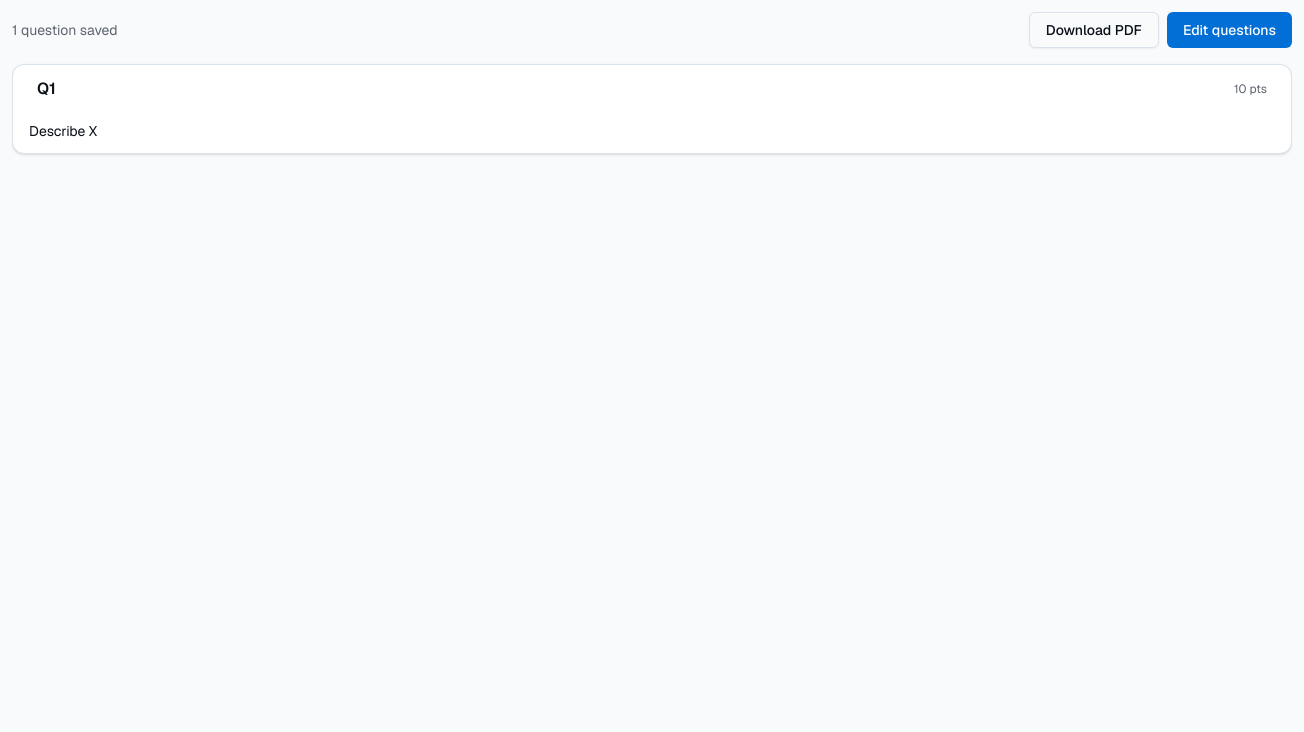
Test: canEdit=true with saved questions (view mode) › Cancel button returns to view mode
The width and height of the screenshot is (1304, 732).
Click the button "Edit questions": point(1229, 30) [1167,12,1292,48]
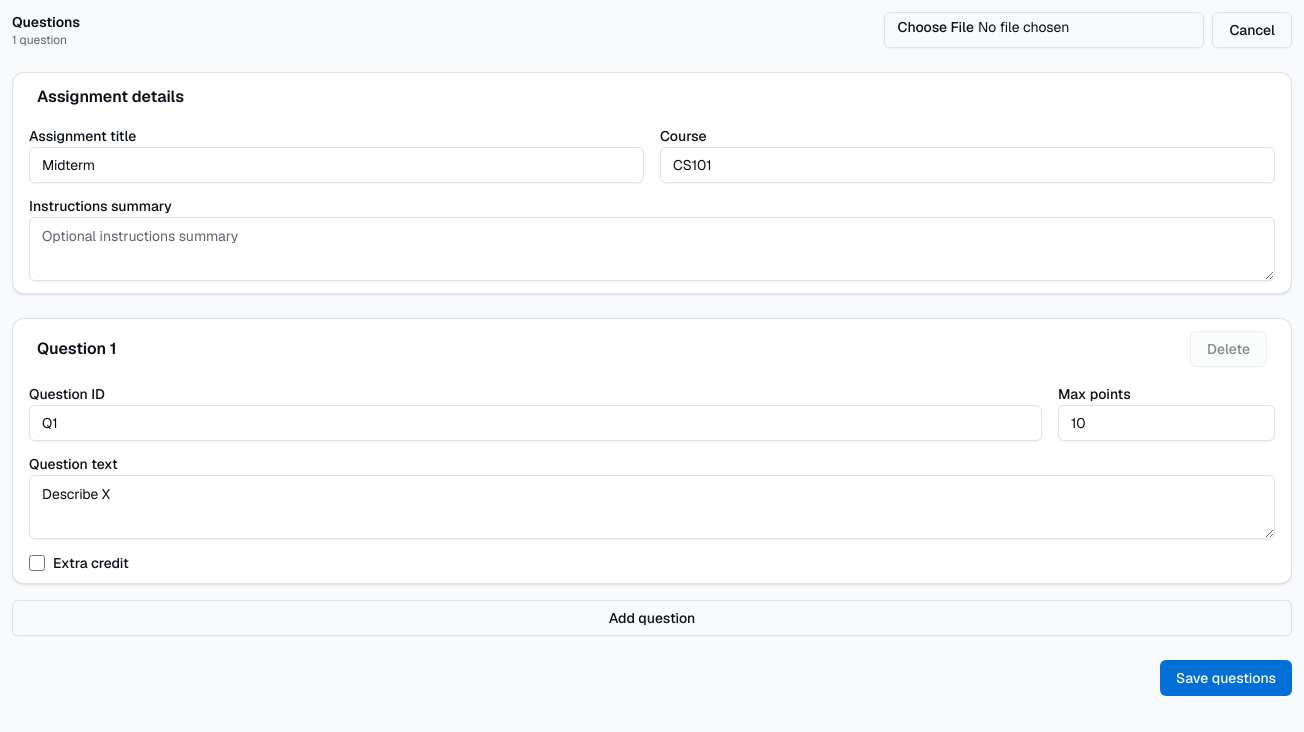
expect the form is shown: met
Click the button "Cancel": point(1252, 30) [1212,12,1292,48]
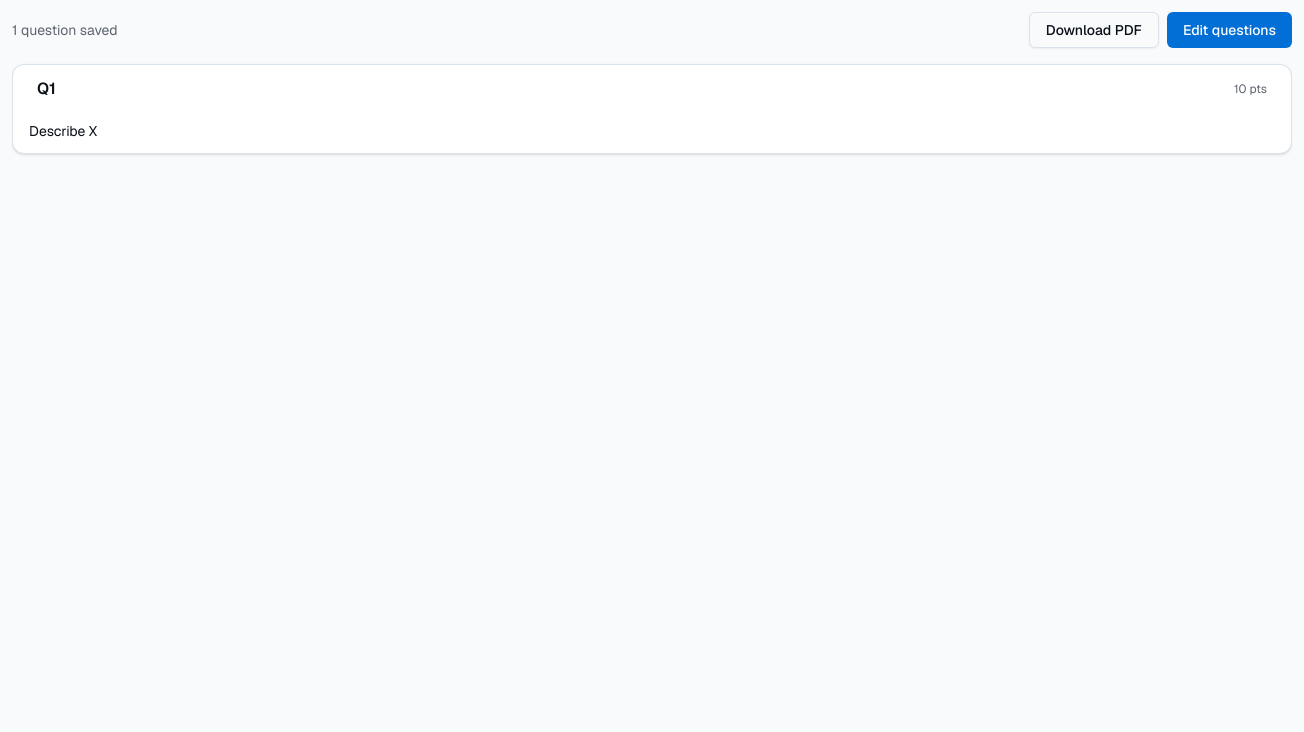
expect the form is gone: met
